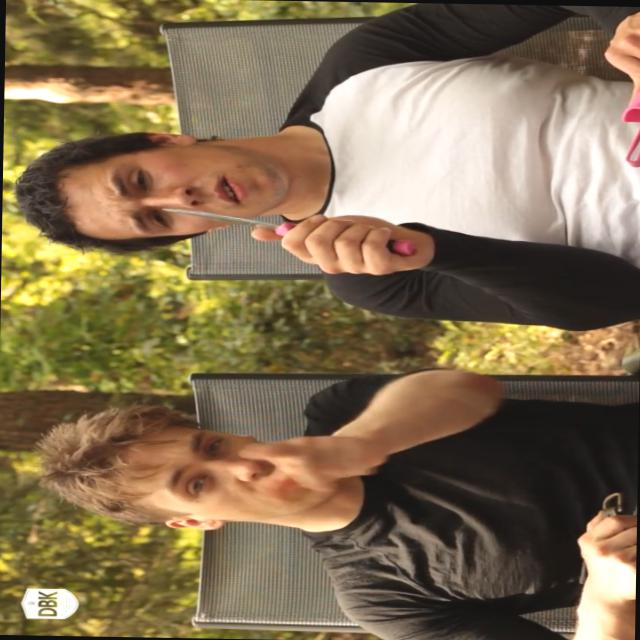knife: (144, 199, 376, 266)
